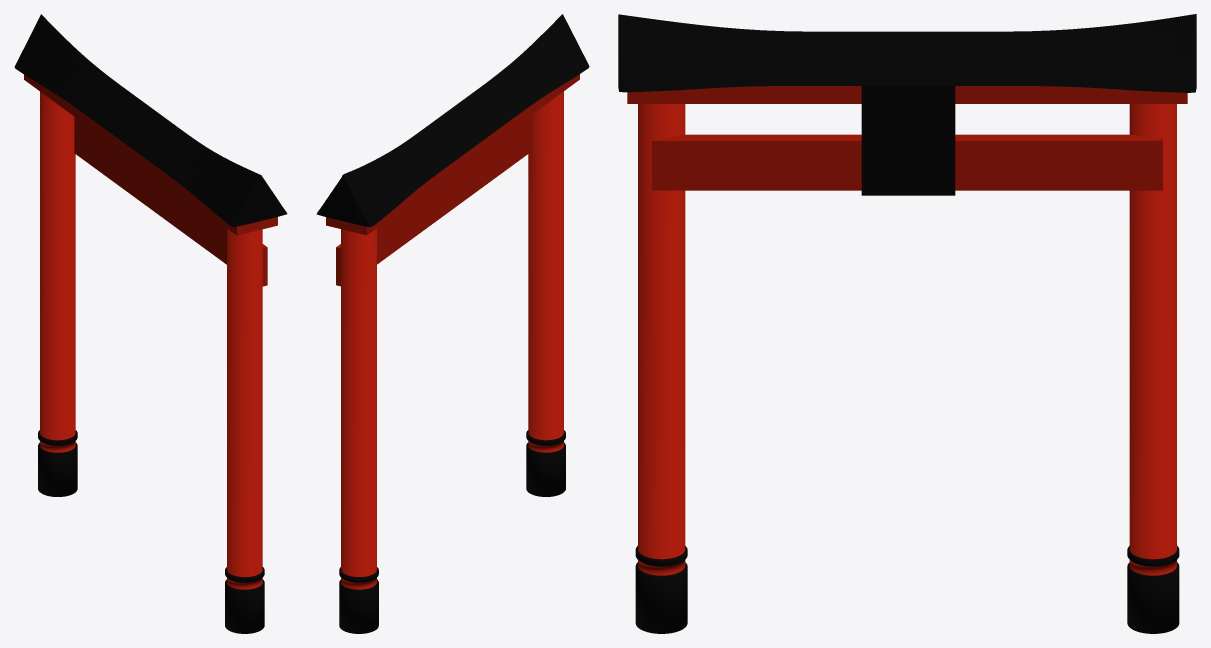
The model's file is Shinto Shrine.fbx.
3 views of the same model, side by side, from view 1: azimuth 30°, elevation 25°; view 2: azimuth 150°, elevation 25°; view 3: azimuth 270°, elevation 25° (orthographic). The views are drawn at different scales.
Visible parts, largest first — view 1: Cylinder, Cube.001, Cube, Cube.003; view 2: Cylinder, Cube.001, Cube, Cube.003; view 3: Cylinder, Cube.001, Cube, Cube.002, Cube.003.
Boxes of the visible parts, left/top/right/bottom form: Cylinder: left=38, top=91, right=264, bottom=633; Cube.001: left=14, top=14, right=287, bottom=226; Cube: left=74, top=117, right=267, bottom=286; Cube.003: left=24, top=74, right=277, bottom=235; Cylinder: left=339, top=91, right=565, bottom=633; Cube.001: left=316, top=14, right=589, bottom=227; Cube: left=336, top=117, right=529, bottom=286; Cube.003: left=326, top=74, right=579, bottom=235; Cylinder: left=635, top=104, right=1179, bottom=633; Cube.001: left=618, top=14, right=1196, bottom=92; Cube: left=652, top=134, right=1162, bottom=190; Cube.002: left=861, top=86, right=955, bottom=195; Cube.003: left=627, top=86, right=1187, bottom=103.
Bounding box in the file's own units: 95.58 × 753 × 648.
